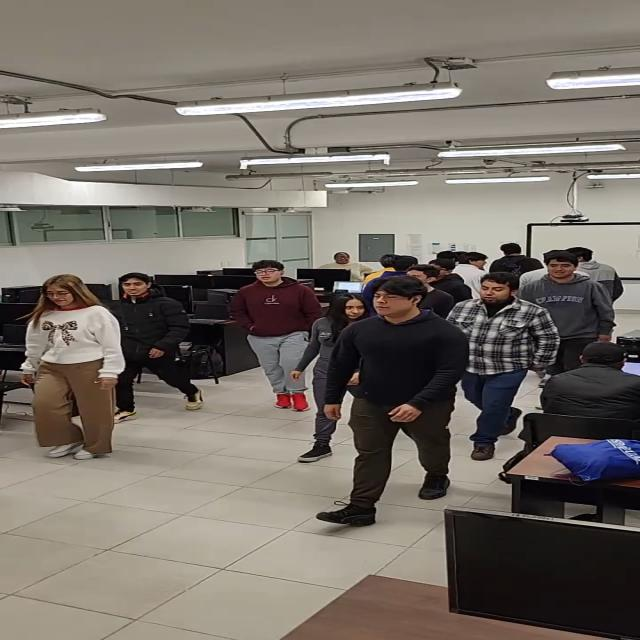Persona: (365, 275, 453, 501), (24, 272, 118, 449), (456, 271, 535, 430), (245, 253, 315, 425), (121, 272, 203, 413), (316, 289, 368, 461), (536, 247, 605, 351), (322, 254, 362, 282)
